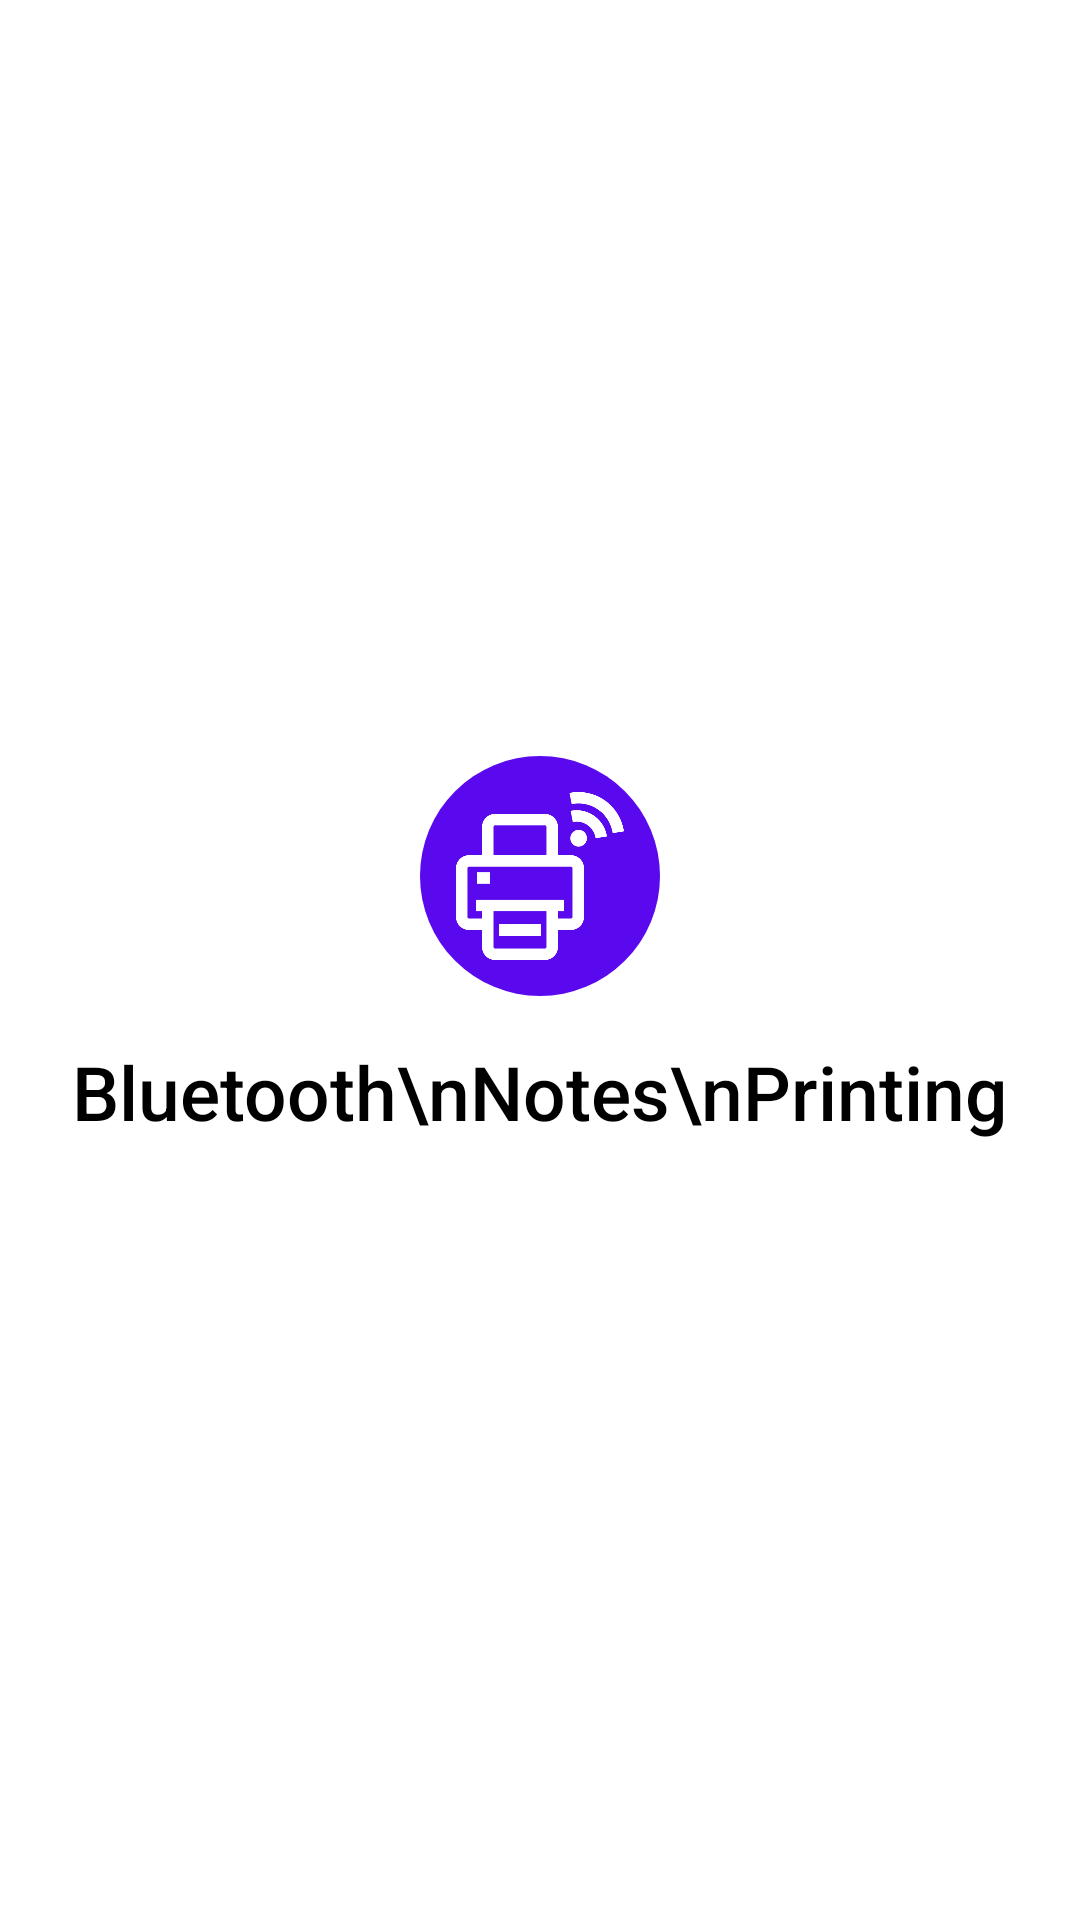

Named icons in this screenshot (1080 × 1920) and their centers, (x=x, y=y):
bluetooth printer: (x=540, y=876)
